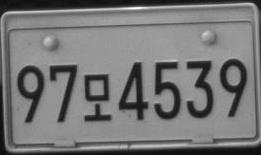3: (186, 59, 214, 118)
4: (117, 61, 148, 120)
5: (153, 60, 181, 119)
7: (49, 63, 77, 122)
9: (219, 57, 247, 117), (16, 64, 44, 122)
모: (83, 72, 111, 122)
